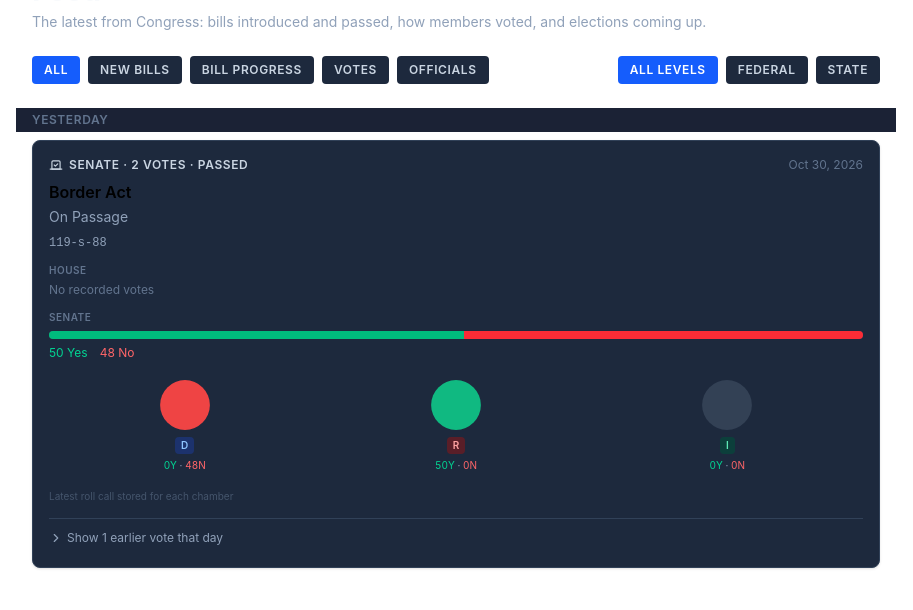
Test case: Feed page › merges same-day votes on a bill into one card
This screenshot has width=913, height=610.
Expected: the text "Senate · 2 votes · Passed" is shown, [49,157,248,173]
Expected: the text "On the Amendment" is not shown
Click the button "Show 1 earlier vote that day" at (136, 538), box [49,530,223,546]
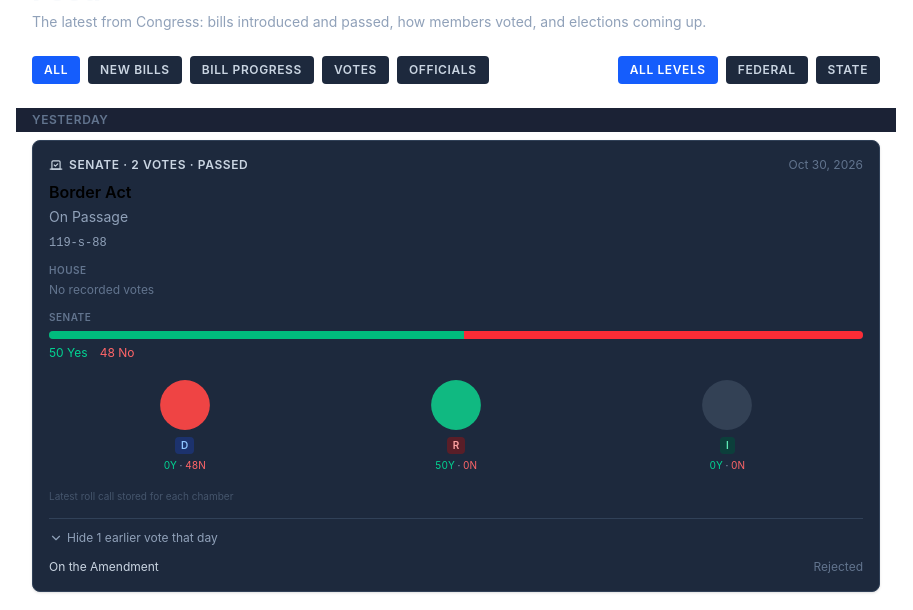
Now the text "On the Amendment" is shown, box [49,559,159,575]
Now the text "Rejected" is shown, box [814,559,863,575]
